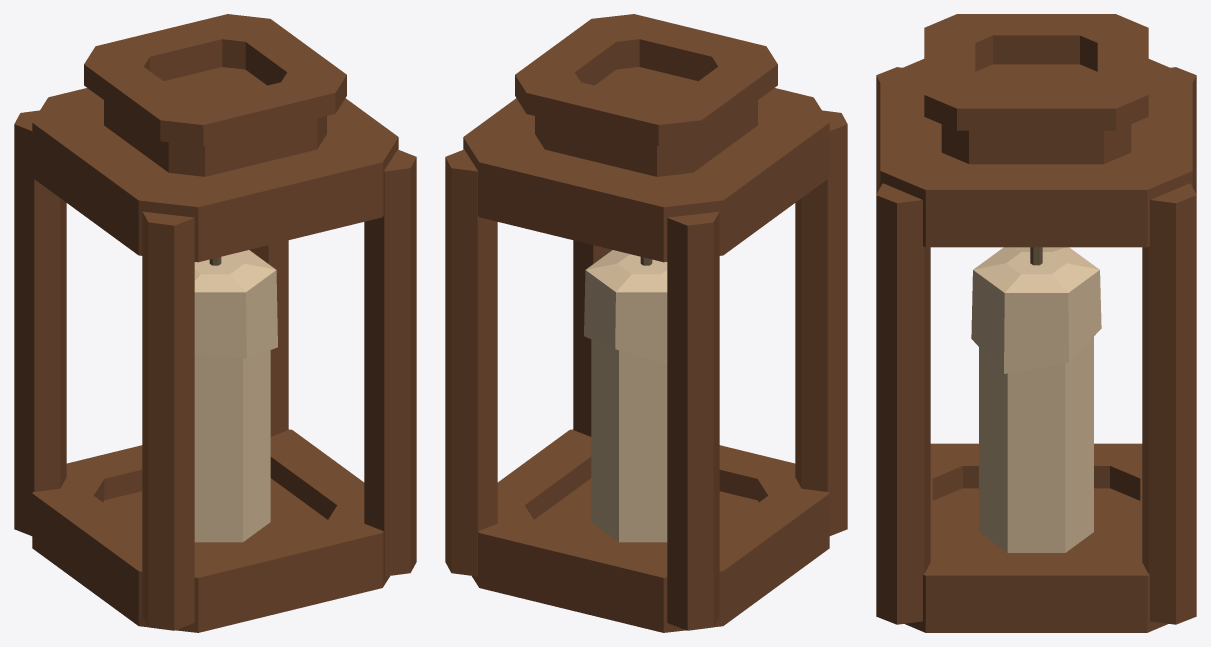
File: light.fbx
The picture shows the model from 3 angles, left to right: view 1: azimuth 30°, elevation 25°; view 2: azimuth 150°, elevation 25°; view 3: azimuth 270°, elevation 25°; orthographic projection. The views are drawn at different scales.
Parts seen in each view (by area): view 1: light; view 2: light; view 3: light.
Part boxes in pixels (x1,y1,x2,y2): light: (14, 14, 416, 632); light: (445, 14, 847, 632); light: (876, 14, 1196, 632).
Size of the model in its own units: 21.25 by 36.78 by 21.14.
